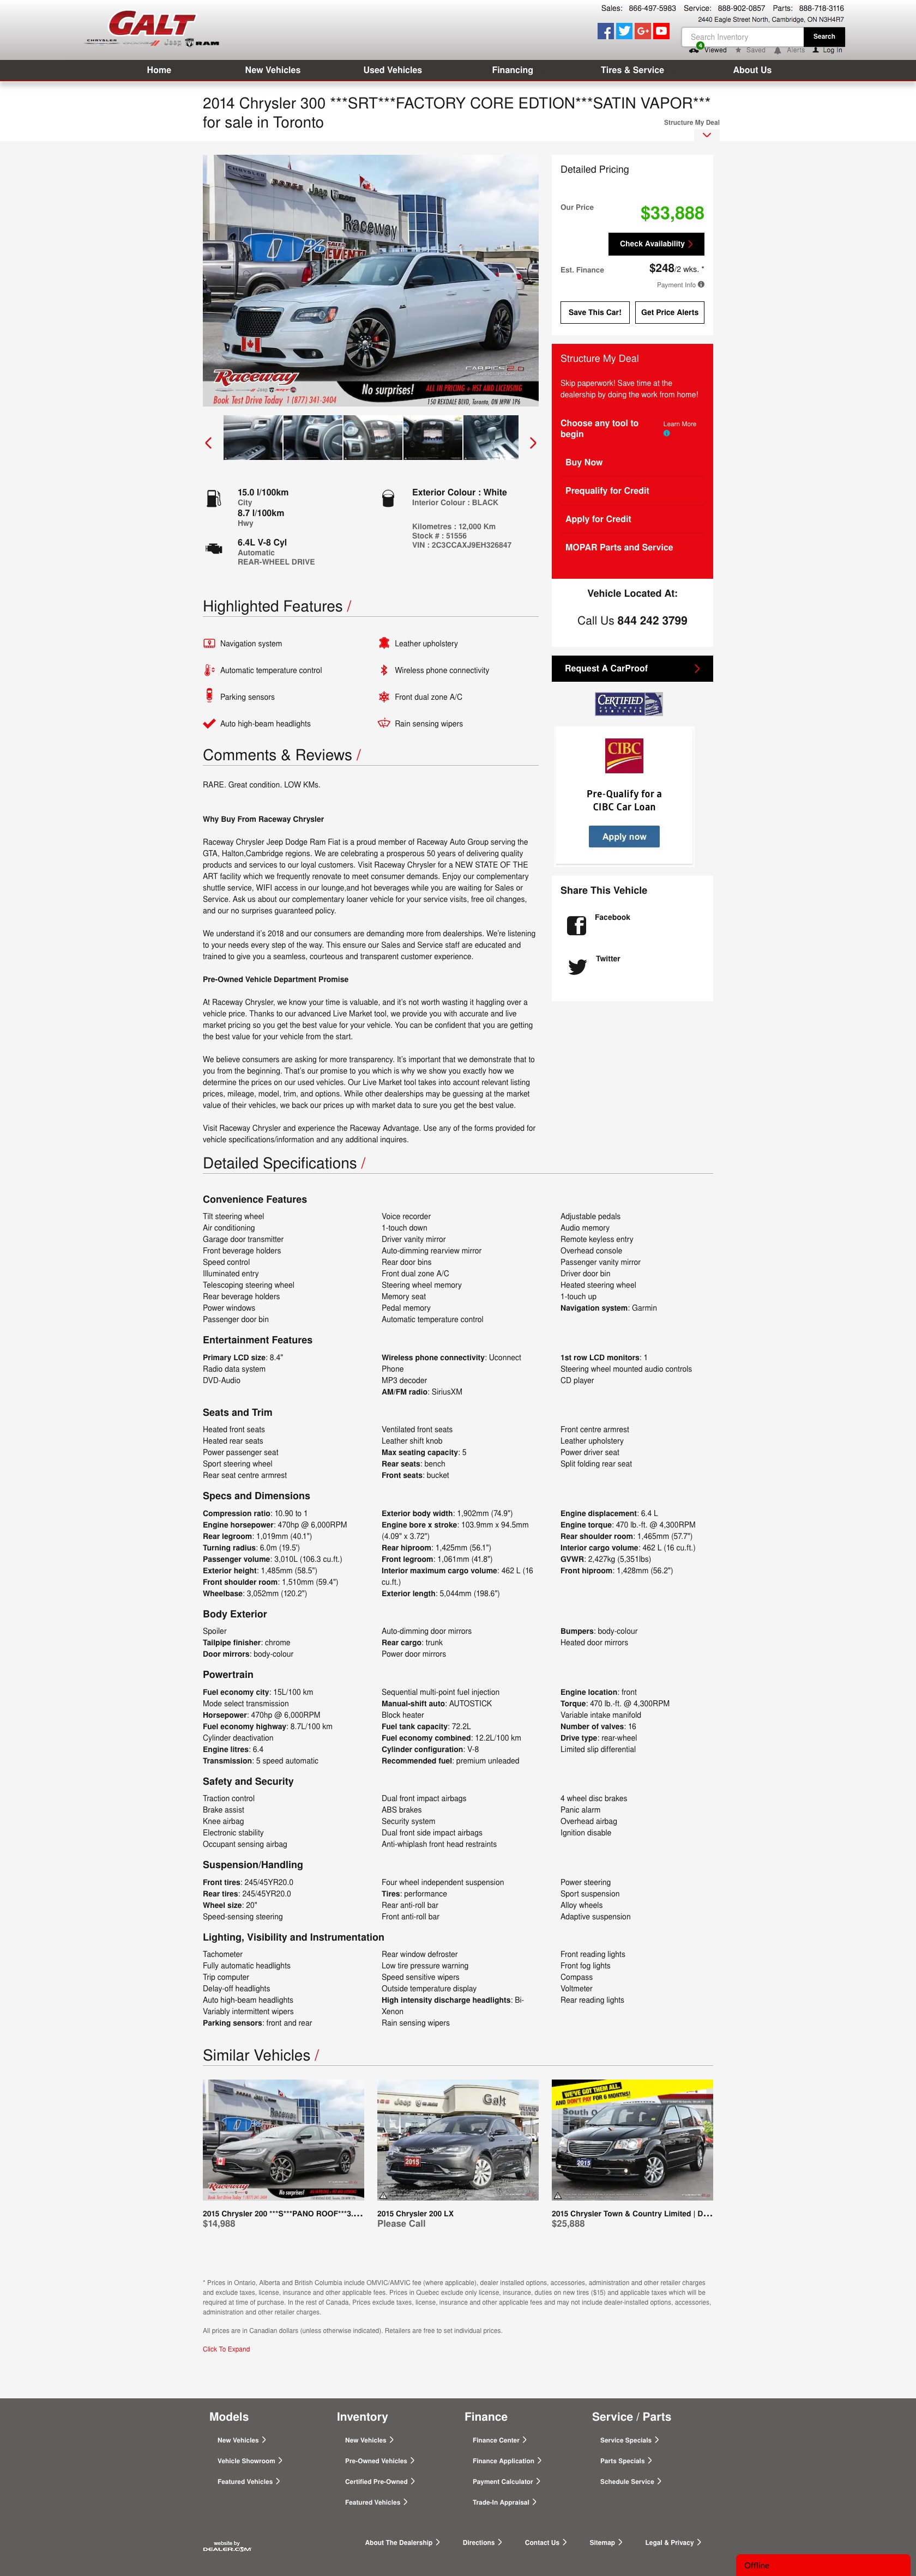car: (530, 437, 538, 450)
